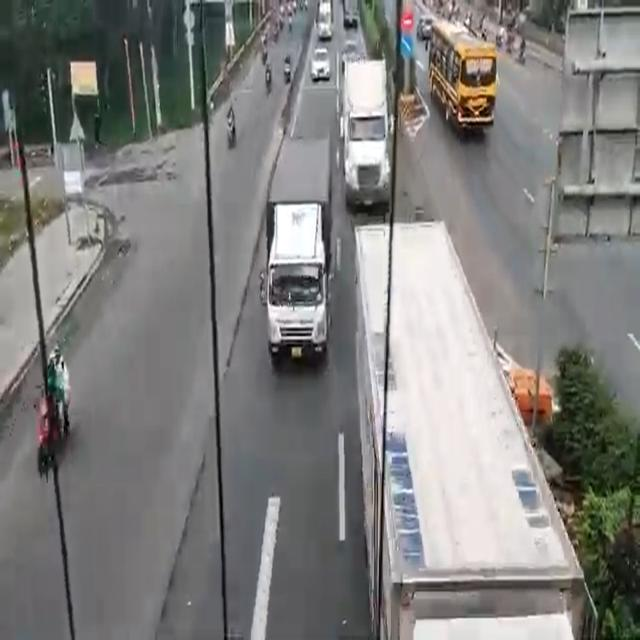bus: (429, 16, 494, 130)
car: (310, 48, 330, 79)
motor: (36, 356, 62, 467), (223, 101, 240, 149)
truck: (354, 220, 577, 639), (272, 133, 327, 365), (340, 54, 393, 207)
